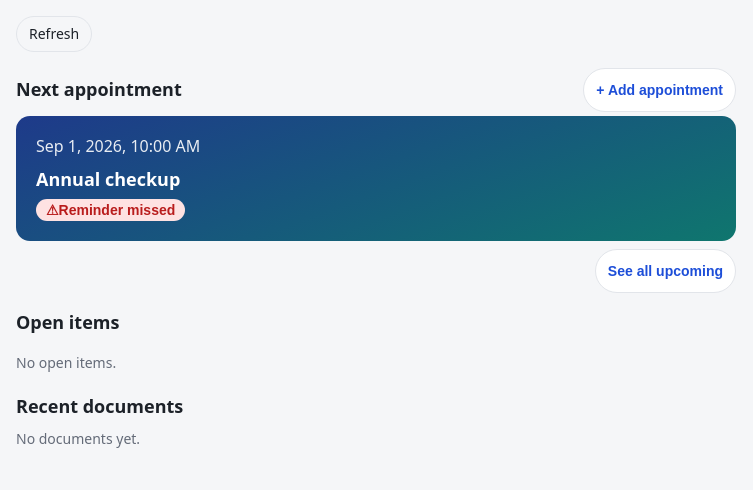
Scenario: HomeScreen › shows a missed-reminder marker on the hero card with the exact reason available on tap, when nextAppointment has one (issue #10)
Expected: the text "The reminder email failed to send." is not shown
What coordinates should you click on to do the following:
click the button "⚠ Reminder missed"
I would click on:
 (111, 210)
Its box is [36,199,185,221].
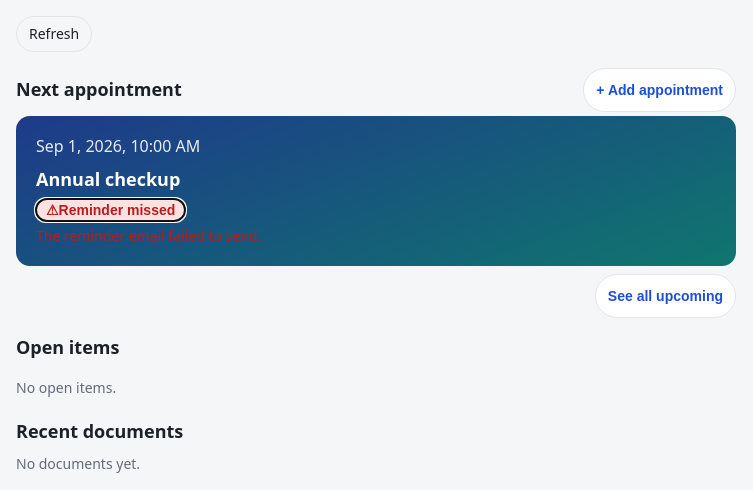
Expected: the text "The reminder email failed to send." is shown, [36,226,261,245]
